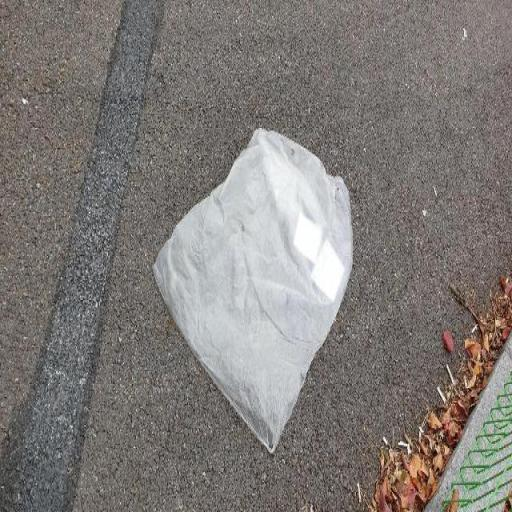plastic-bag: (150, 124, 355, 458)
